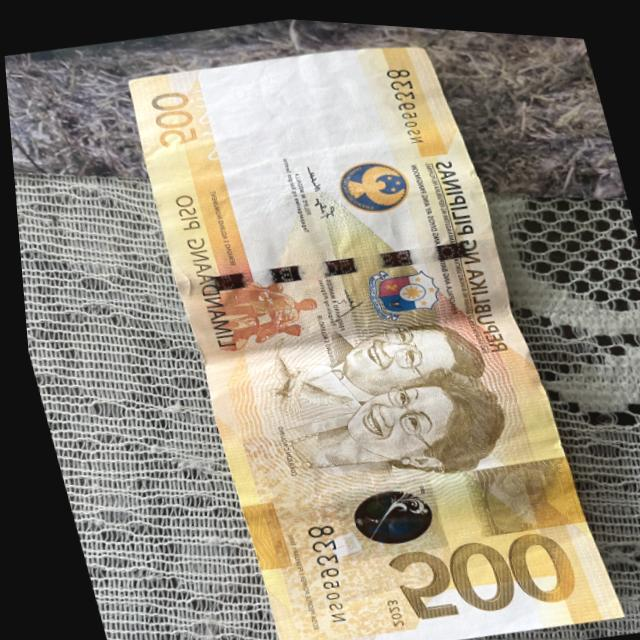concealed_value: (453, 442, 580, 537)
optically_variable_device: (322, 471, 439, 559)
security_thread: (166, 215, 498, 313)
see_through_mark: (185, 82, 230, 170)
serial_number: (282, 508, 362, 624), (381, 58, 430, 144)
value: (375, 511, 580, 629)
